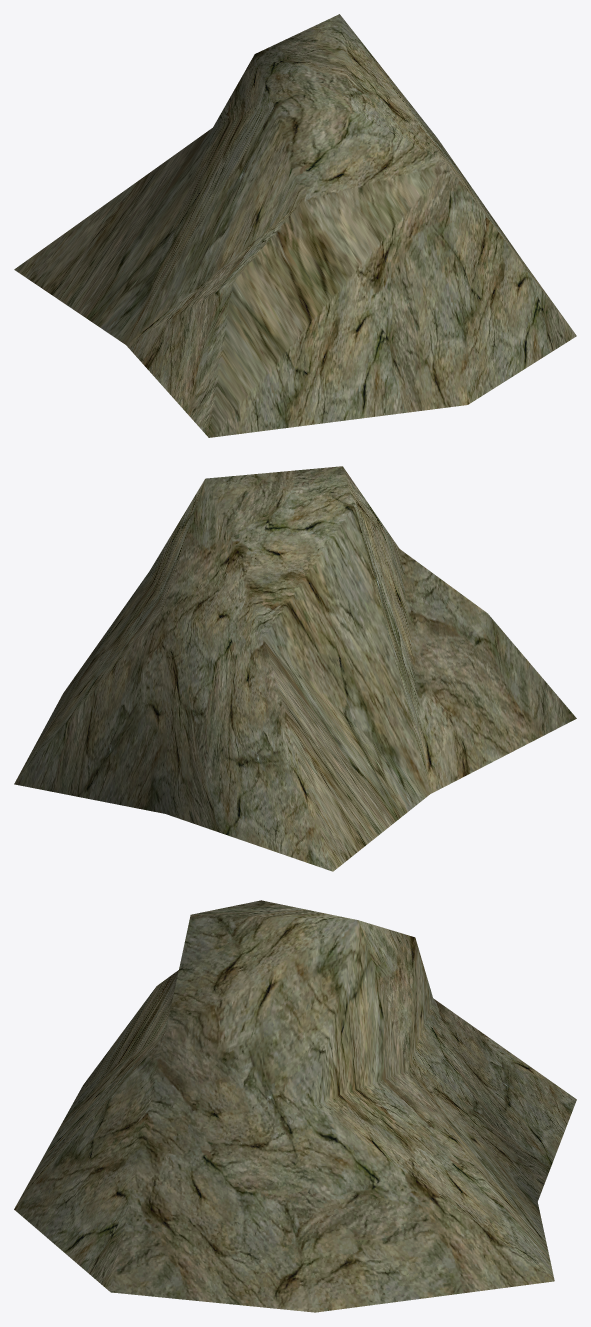
File: rock_plain_white_l3.fbx
The picture shows the model from 3 angles, top to bottom: view 1: azimuth 30°, elevation 25°; view 2: azimuth 150°, elevation 25°; view 3: azimuth 270°, elevation 25°; orthographic projection. The views are drawn at different scales.
Visible parts, largest first — view 1: mesh_node; view 2: mesh_node; view 3: mesh_node.
Part boxes in pixels (box(x1,y1,x2,y2)): mesh_node: box(14, 14, 576, 437); mesh_node: box(14, 466, 576, 871); mesh_node: box(14, 900, 576, 1312).
Size of the model in its own units: 5.38 by 3.34 by 5.62.
